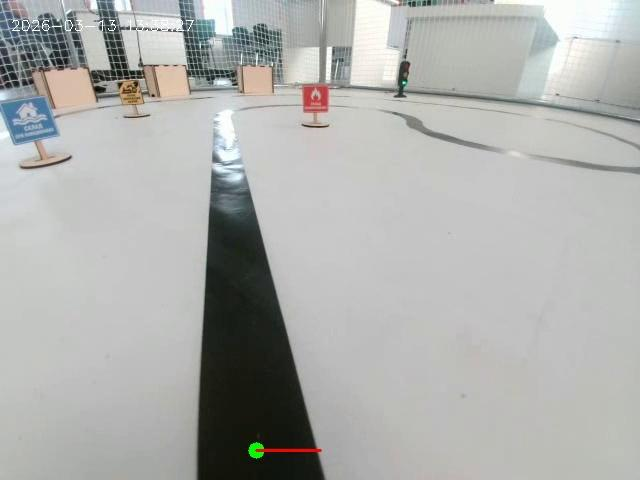fire: (296, 83, 348, 149)
flood: (0, 94, 72, 178)
industrial: (99, 74, 162, 126)
